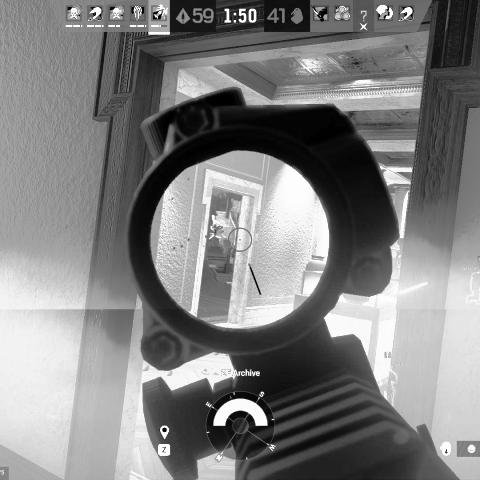Friend_label: (371, 350, 402, 368), (460, 254, 480, 272)
